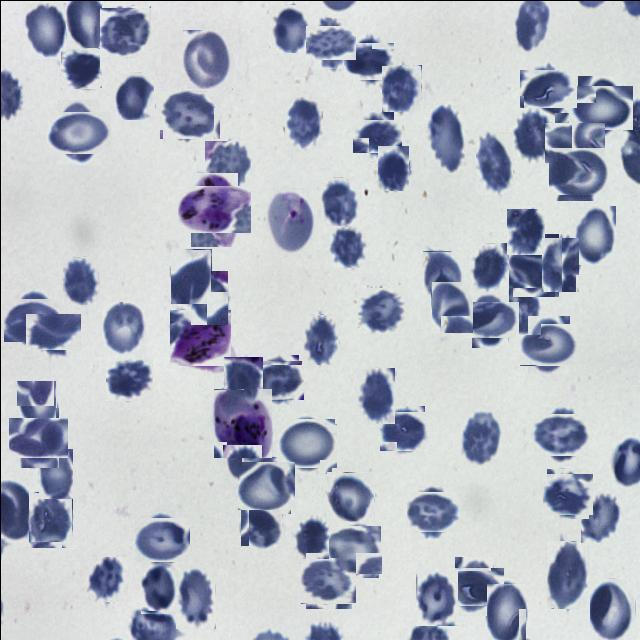gametocyte: (170, 308, 230, 367)
red blood cell: (161, 85, 216, 141), (182, 28, 232, 89), (279, 415, 334, 470), (50, 104, 104, 158), (572, 80, 626, 134), (508, 238, 562, 292), (551, 143, 605, 197), (546, 540, 588, 608), (588, 577, 634, 639), (239, 458, 292, 511), (425, 104, 465, 174), (328, 524, 380, 576), (302, 554, 353, 606), (100, 7, 151, 58), (175, 564, 215, 628), (549, 117, 599, 168), (574, 204, 616, 264), (7, 294, 57, 344), (522, 319, 572, 369), (137, 514, 187, 564), (13, 412, 63, 462), (101, 300, 147, 354), (28, 491, 72, 547), (536, 409, 586, 458), (498, 276, 540, 334), (22, 2, 65, 58), (449, 561, 498, 610), (204, 140, 250, 192), (415, 569, 457, 625), (326, 471, 374, 520), (358, 286, 407, 334), (475, 131, 512, 194), (486, 582, 526, 640), (524, 64, 572, 112), (460, 411, 502, 465), (408, 488, 456, 535), (170, 248, 211, 303), (430, 280, 473, 332), (106, 354, 152, 401), (466, 296, 513, 342), (356, 367, 394, 423), (16, 379, 56, 432), (30, 307, 76, 353), (544, 470, 590, 516), (190, 269, 228, 324), (541, 236, 579, 291), (512, 108, 553, 158), (382, 408, 427, 453), (256, 356, 300, 402), (580, 492, 620, 542), (469, 242, 508, 293), (346, 38, 391, 82), (284, 96, 322, 148), (320, 176, 360, 225), (239, 503, 283, 547), (114, 72, 154, 120), (422, 250, 462, 298), (268, 4, 308, 52), (381, 64, 421, 111), (86, 556, 127, 601), (302, 313, 338, 364), (309, 21, 351, 64), (140, 563, 176, 613), (223, 356, 262, 401), (506, 208, 544, 254), (62, 256, 98, 304), (355, 115, 397, 156), (38, 448, 72, 498), (59, 47, 100, 88), (329, 226, 365, 267), (377, 144, 409, 190), (294, 518, 328, 558)
ring: (266, 188, 314, 254)
trophozoite: (213, 387, 272, 457), (183, 179, 244, 239)
